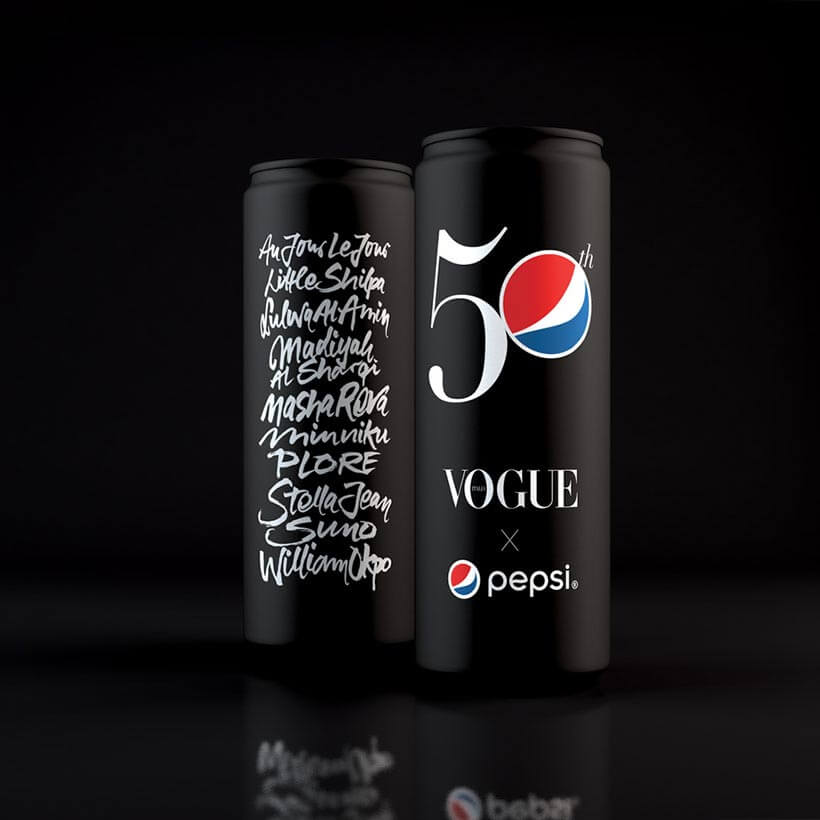pepsi: (499, 239, 591, 360), (502, 239, 591, 360), (439, 553, 480, 598), (443, 554, 484, 599), (445, 557, 480, 599), (443, 554, 478, 595), (445, 557, 479, 594)
